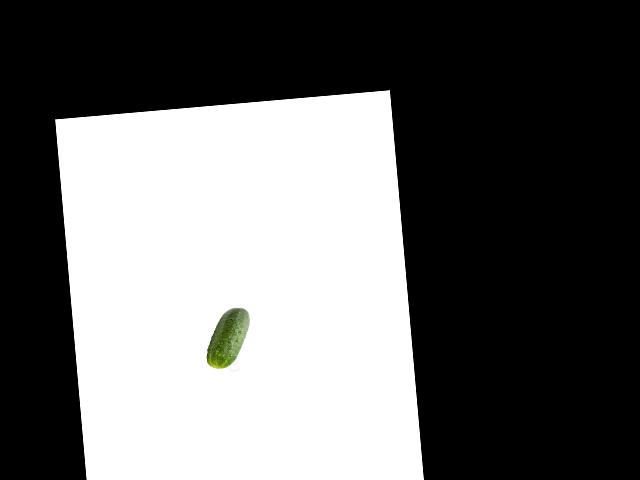cucumber: (202, 306, 253, 369)
